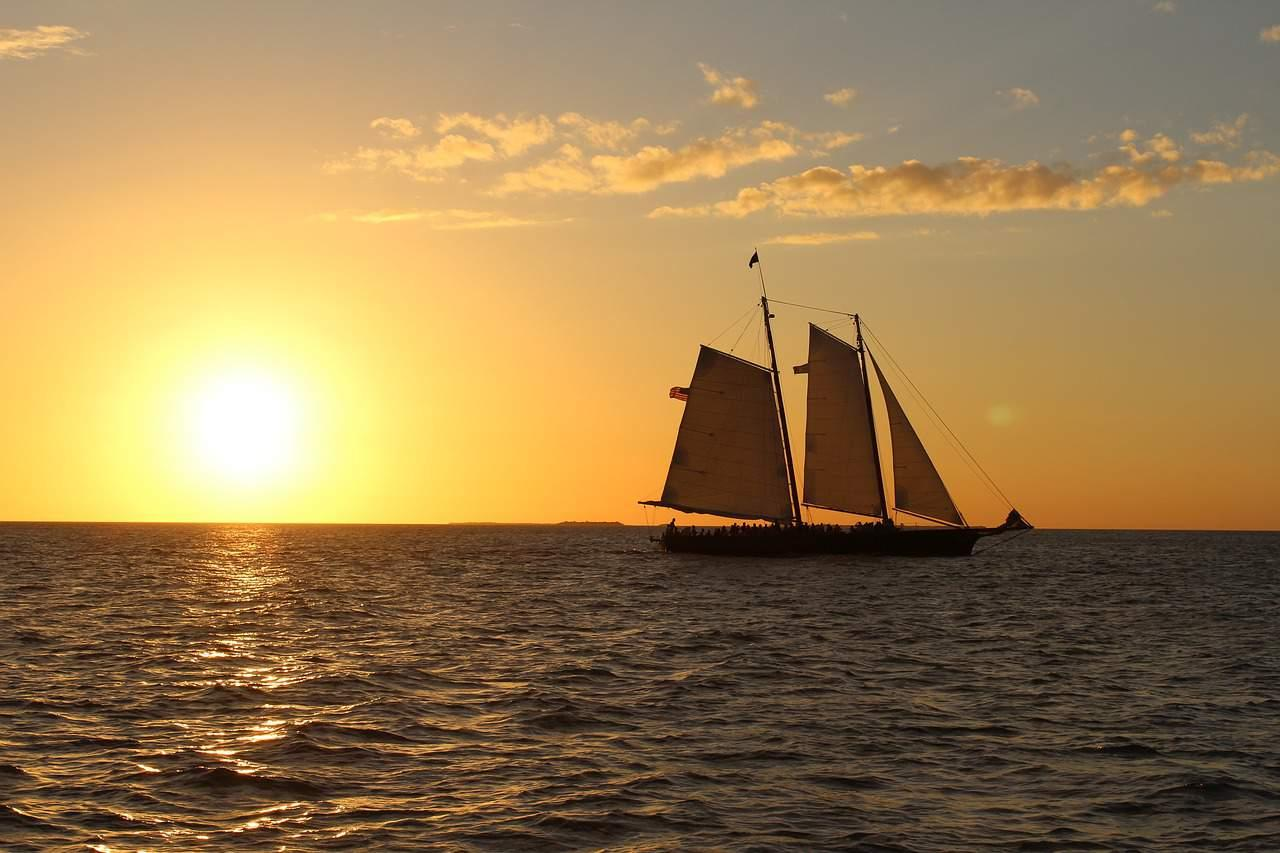Ship: (640, 251, 1031, 563)
